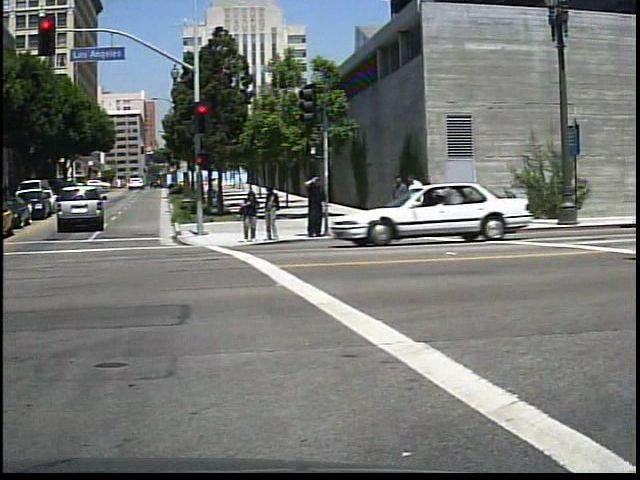person: (308, 176, 333, 241), (243, 189, 265, 241)
